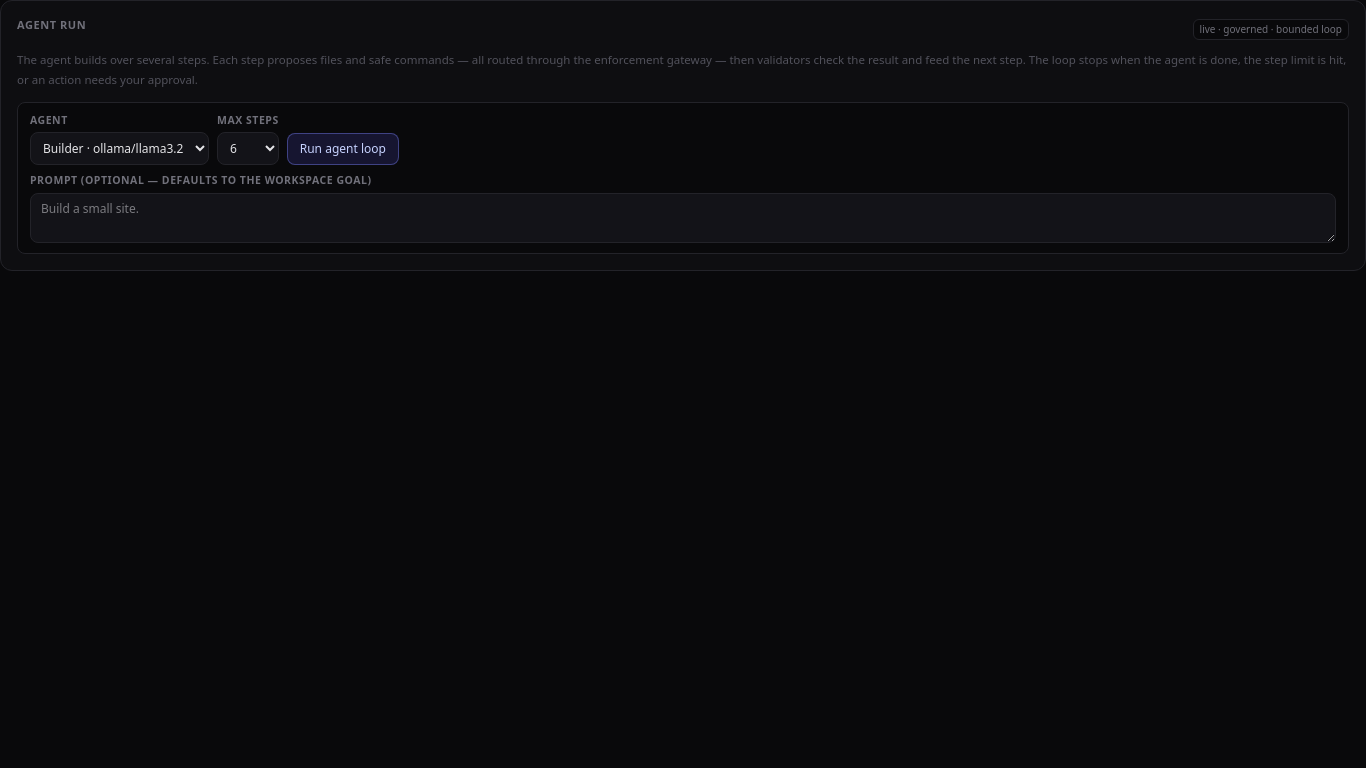
it: AgentRunPanel › shows the awaiting-approval banner and resumes a paused run
Click the button "Run agent loop" at {"x": 343, "y": 149}, box [287, 133, 399, 165]
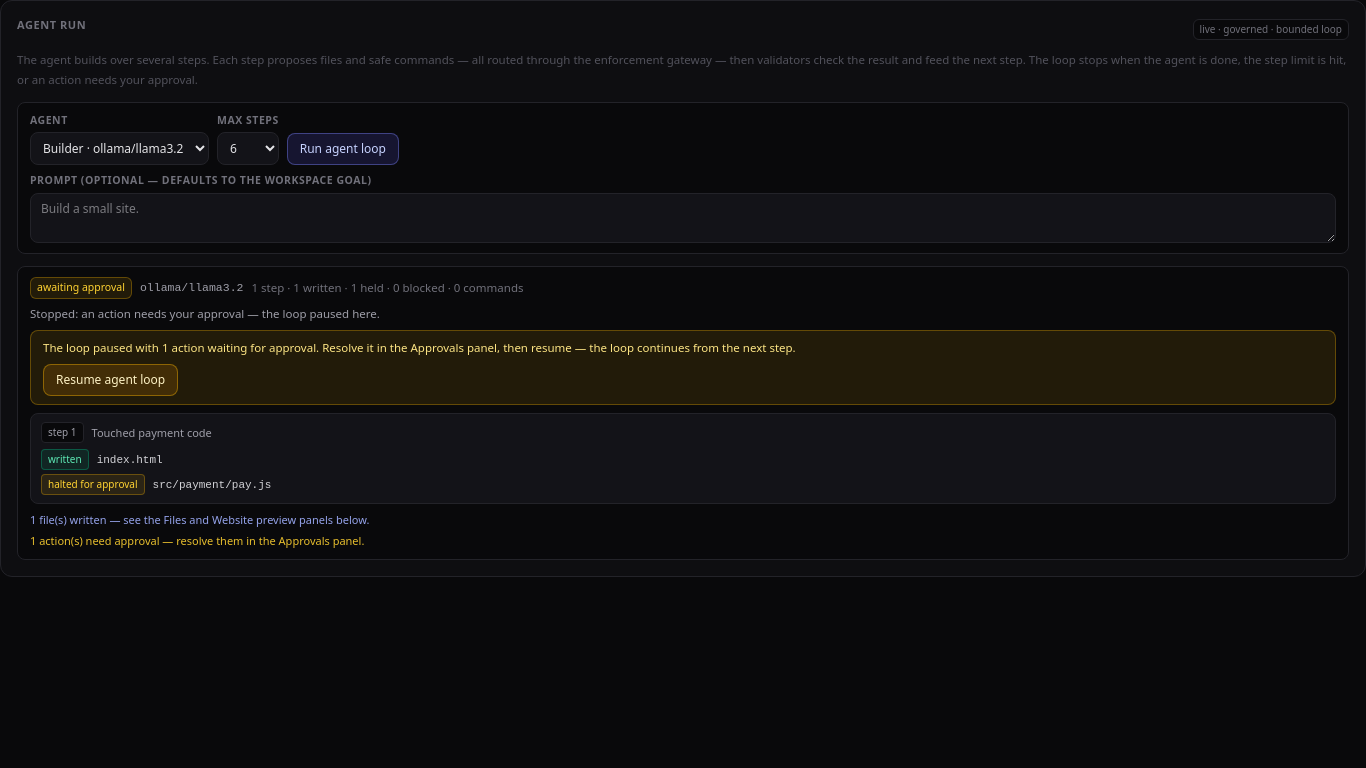
Result: the element with test id "run-awaiting" shows "waiting for approval" at [205, 340, 367, 355]
Result: the text with test id "run-stop-reason" shows "paused" at [81, 306, 377, 321]
Click the button with test id "run-resume" at {"x": 111, "y": 380}, box [43, 364, 178, 396]
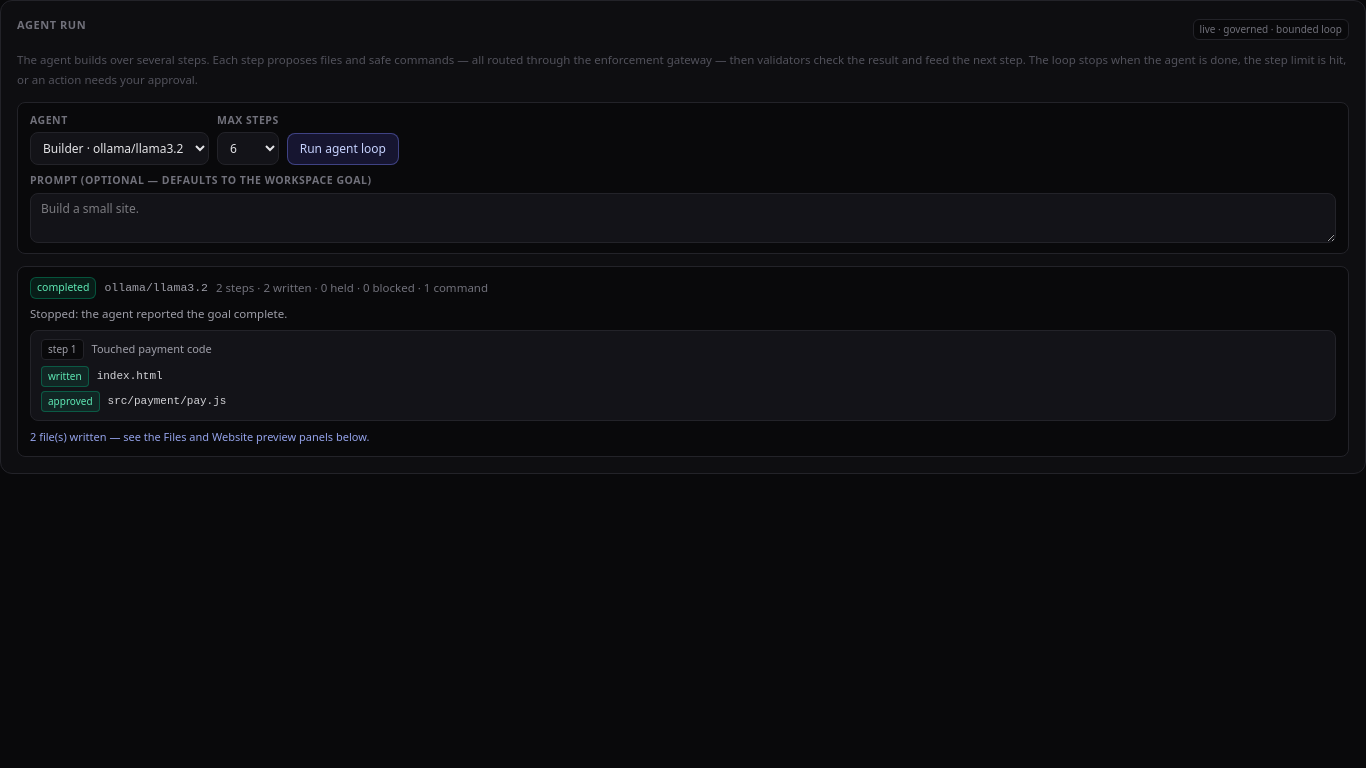
Result: the element with test id "run-awaiting" is gone
Result: the element with test id "run-result" shows "completed" at [37, 280, 90, 294]
